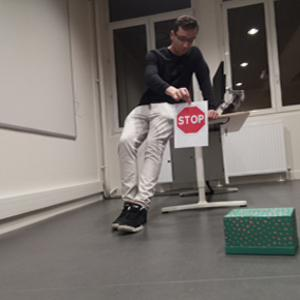stop: (175, 105, 206, 135)
